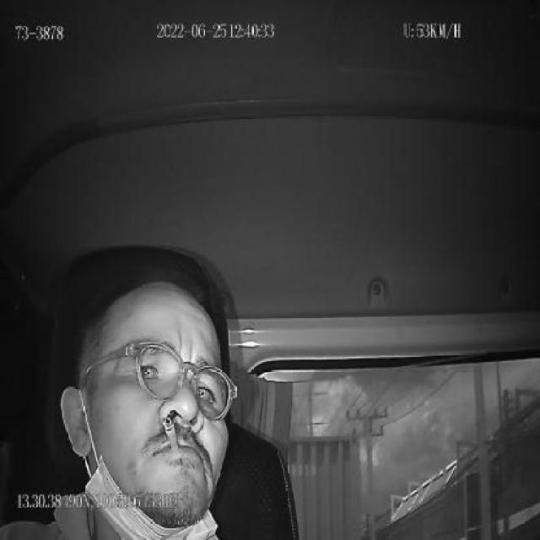smoking: (161, 415, 178, 451)
